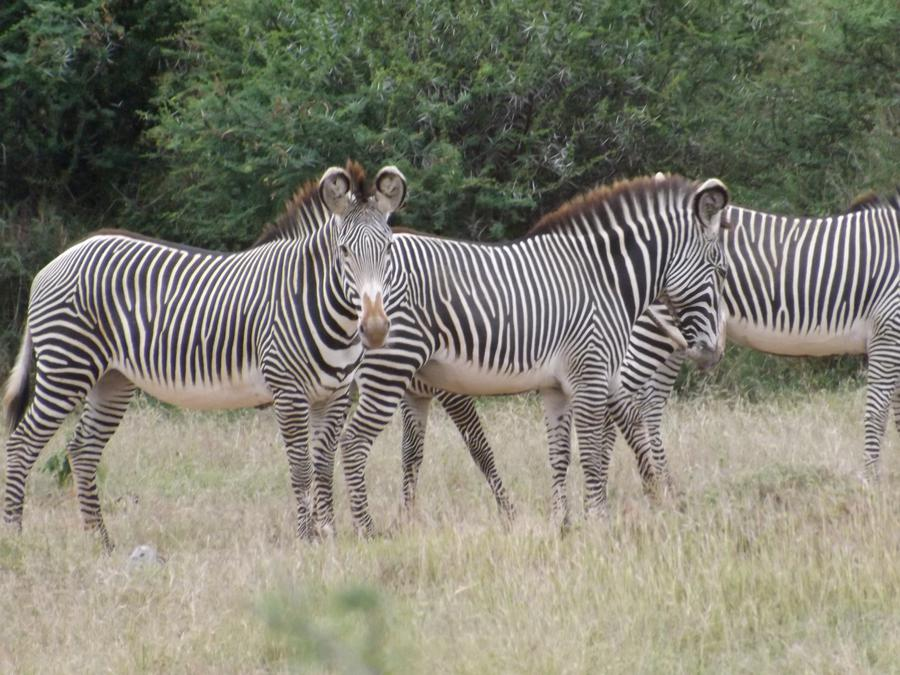zebra_grevys: (30, 209, 329, 396)
